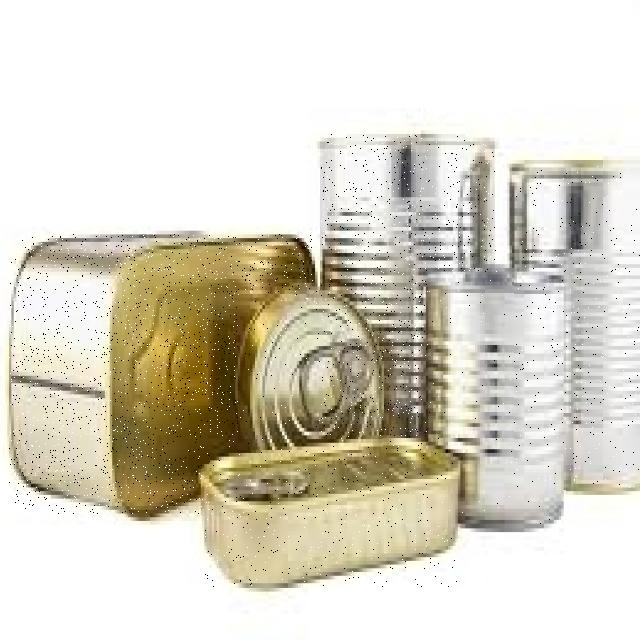metal: (10, 235, 314, 515), (321, 134, 497, 437), (515, 166, 640, 489), (202, 439, 460, 587), (429, 275, 566, 526), (239, 290, 383, 450)
